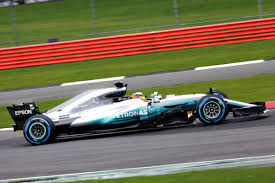FormulaOneCar: (5, 76, 271, 149)
